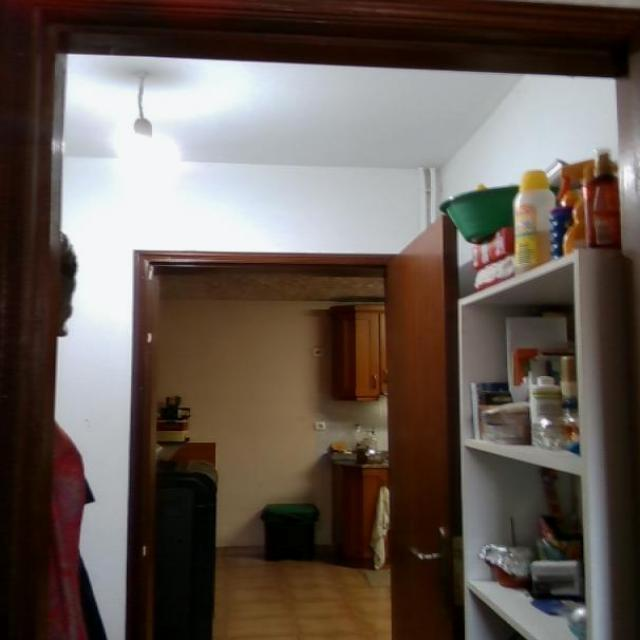door: (378, 205, 464, 640)
